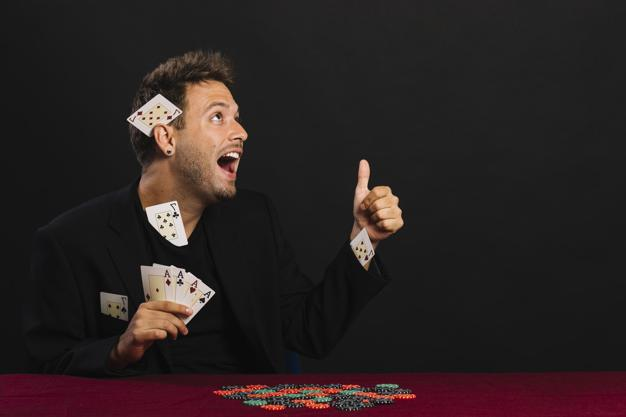thumbsup: (357, 159, 405, 232)
